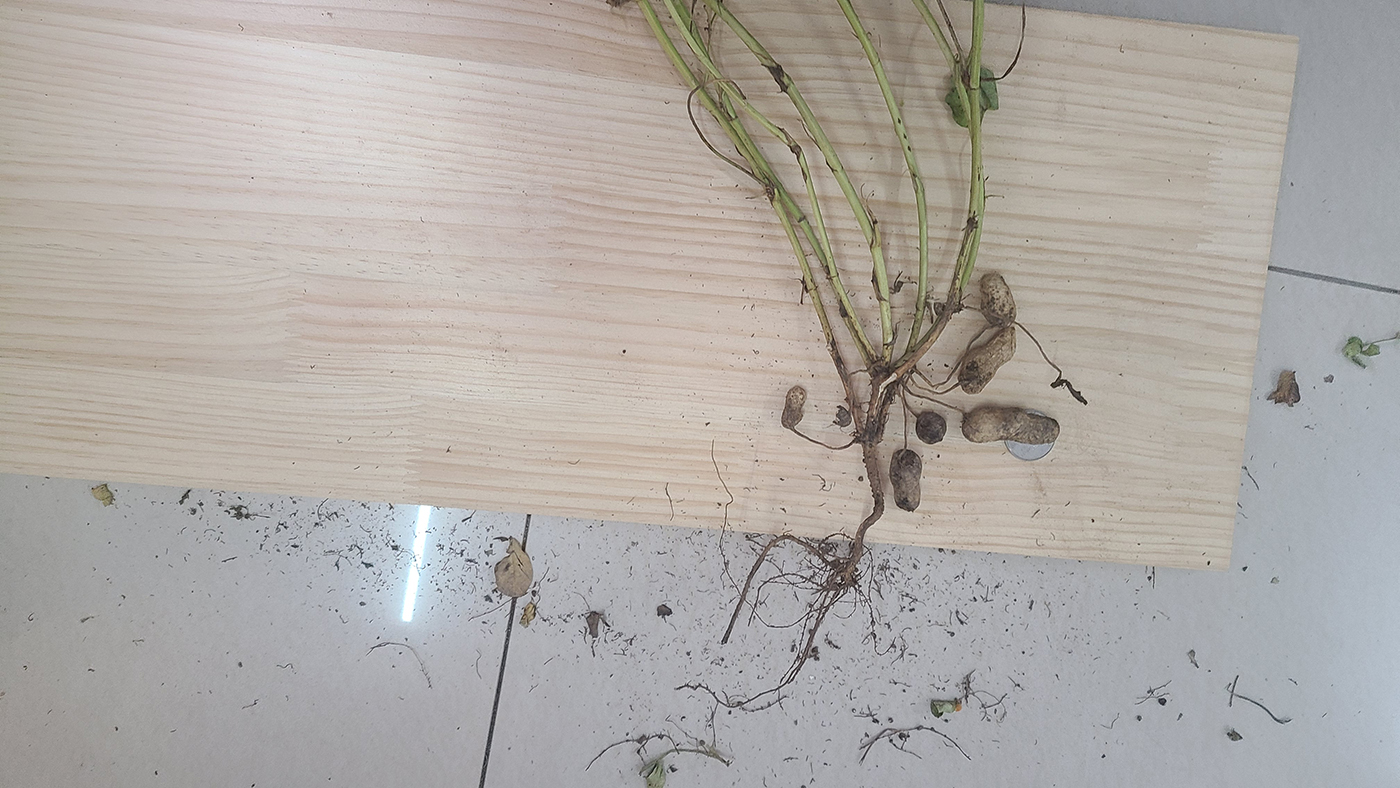h: (980, 273, 1019, 325)
l: (962, 326, 1022, 396), (962, 407, 1061, 446), (889, 448, 924, 513), (780, 384, 806, 430), (1054, 374, 1087, 404), (916, 414, 948, 444), (835, 406, 850, 429)
